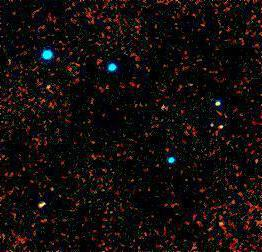star: (201, 104, 231, 134)
